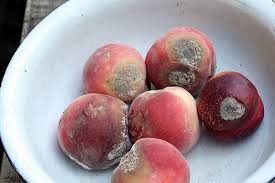damaged_peach: (58, 94, 135, 165), (205, 73, 267, 144), (147, 27, 214, 86), (131, 90, 200, 144), (114, 139, 189, 183), (84, 43, 142, 98)
